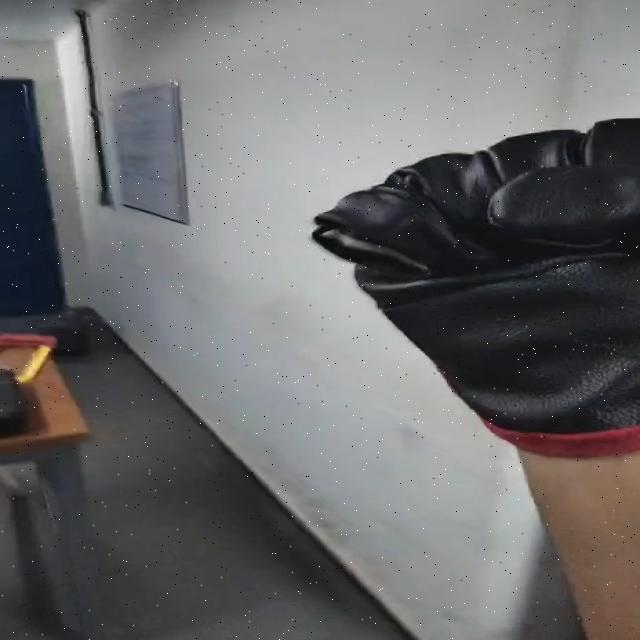Gloves: (318, 113, 640, 457)
